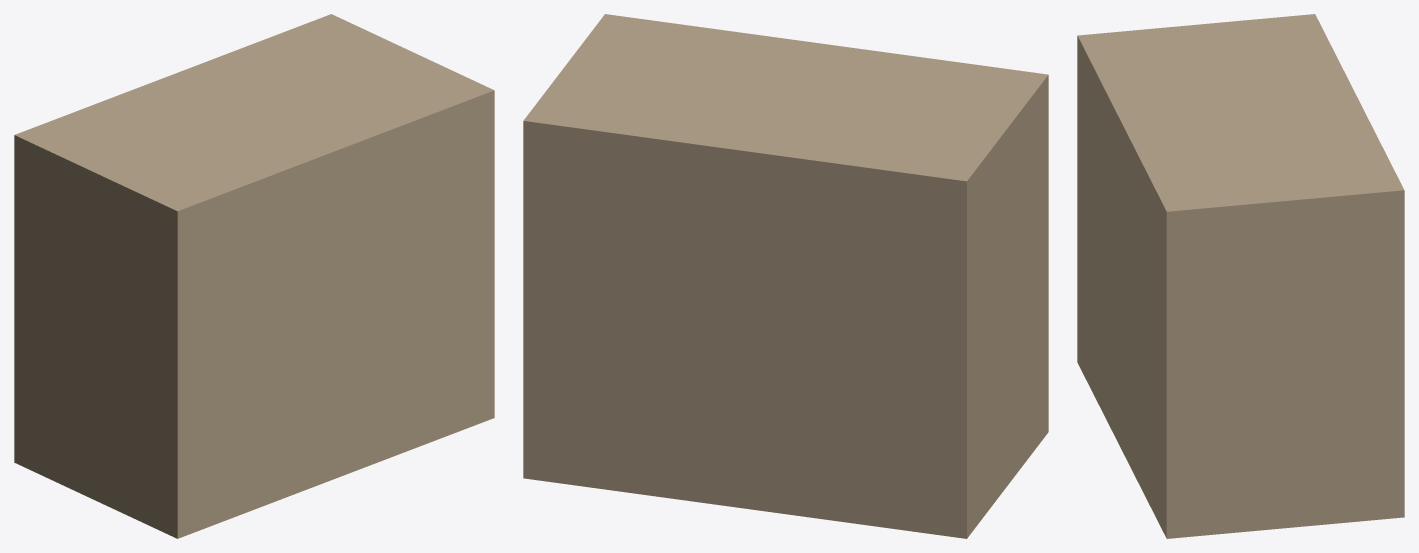
Rendered from bld_106455960.dae.
3 renders of one model, left to right at view 1: azimuth 30°, elevation 25°; view 2: azimuth 150°, elevation 25°; view 3: azimuth 270°, elevation 25°, orthographic. The views are drawn at different scales.
Visible parts, largest first — view 1: bld_106455960; view 2: bld_106455960; view 3: bld_106455960.
Part boxes in pixels (left/top/right/bottom): bld_106455960: left=14, top=14, right=494, bottom=538; bld_106455960: left=523, top=14, right=1048, bottom=538; bld_106455960: left=1077, top=14, right=1404, bottom=538.
Size of the model in its own units: 10.37 by 7.25 by 8.
